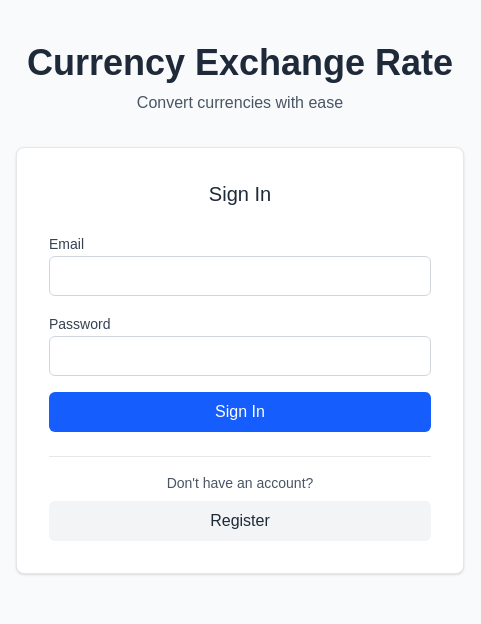
Test case: LoginContainer › should show validation errors when the form is invalid
Type "invalidemail" into the field labelled "Email".
click(240, 276); type("invalidemail")  # box x1=49 y1=256 x2=431 y2=296
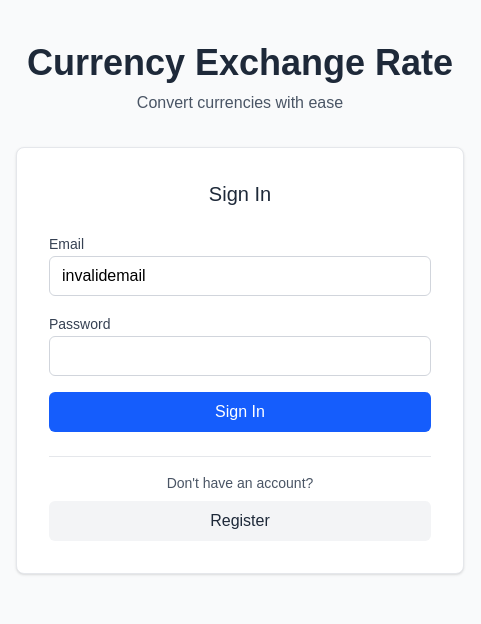
Type "short" into the password field labelled "Password".
click(240, 356); type("short")  # box x1=49 y1=336 x2=431 y2=376
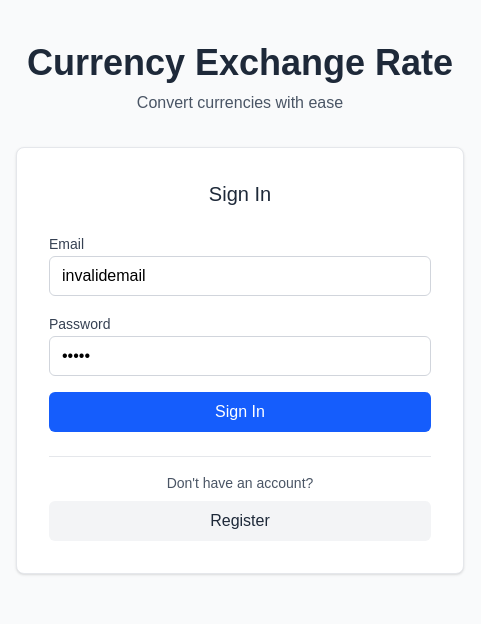
Submit the form "Email Password Sign In", box x1=49 y1=232 x2=431 y2=432
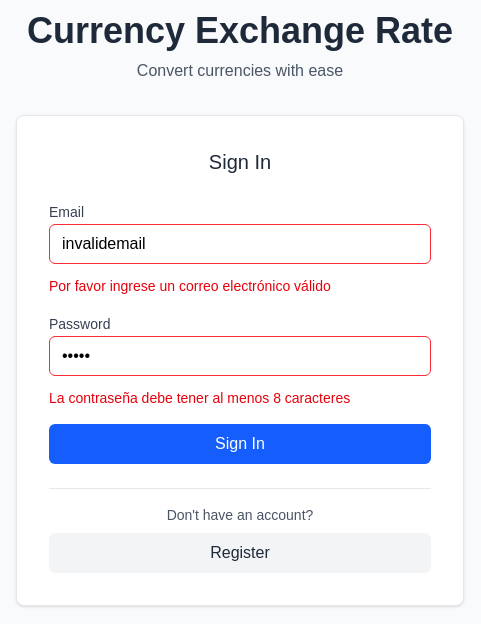
Now the text "Por favor ingrese un correo electrónico válido" is shown, box x1=49 y1=278 x2=331 y2=294
Now the text "La contraseña debe tener al menos 8 caracteres" is shown, box x1=49 y1=390 x2=350 y2=406
